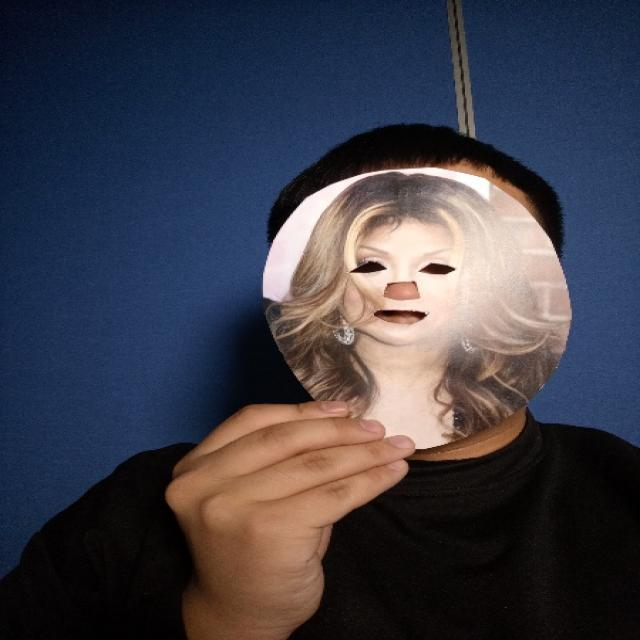mask: (258, 170, 573, 456)
